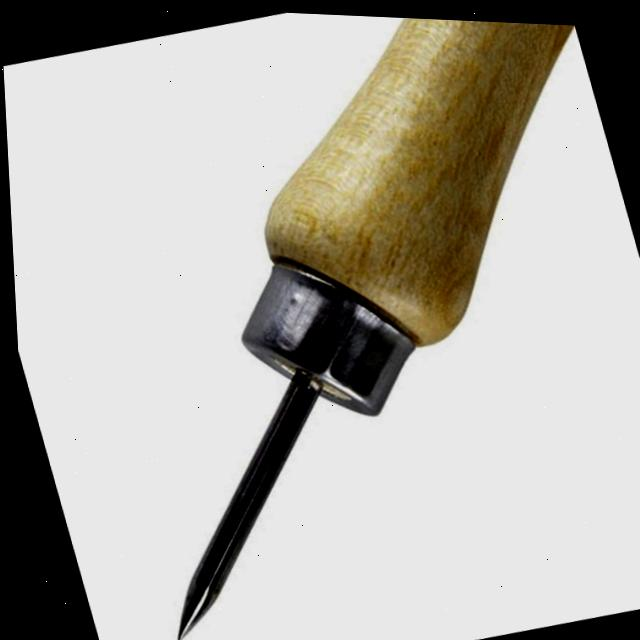ice pick: (9, 0, 640, 640)
